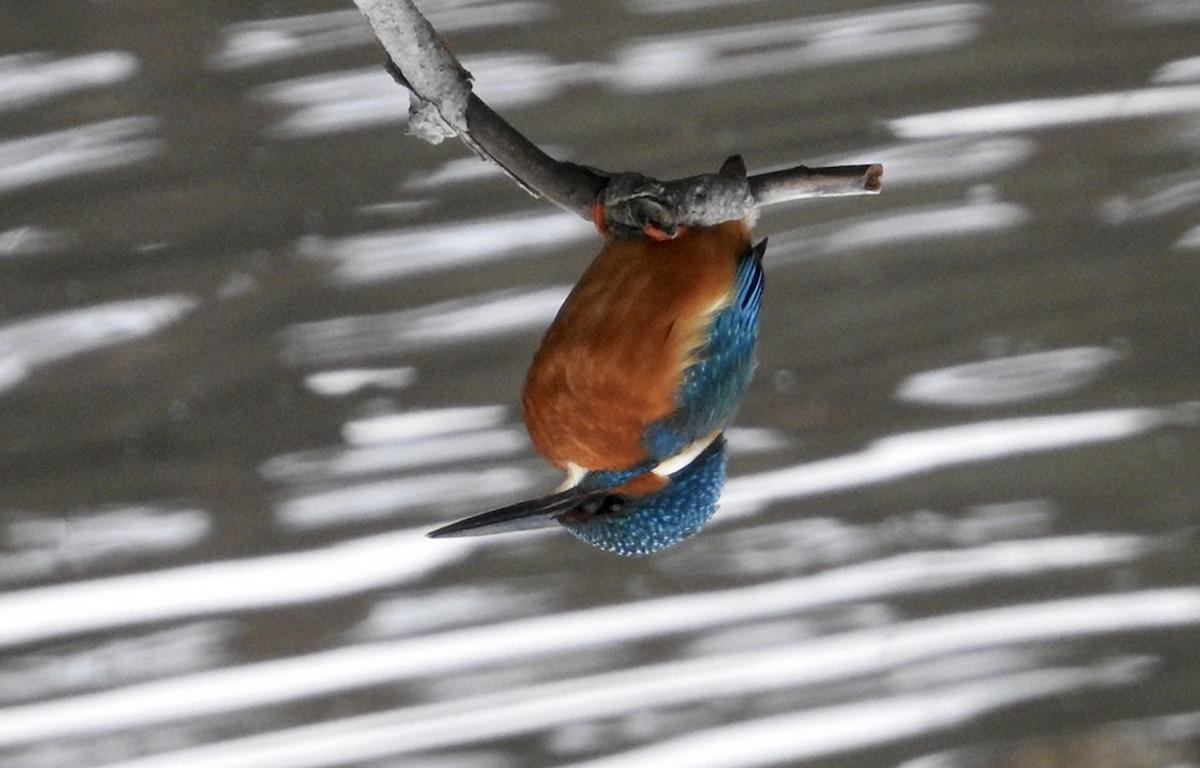kingfisher: (404, 147, 816, 571)
